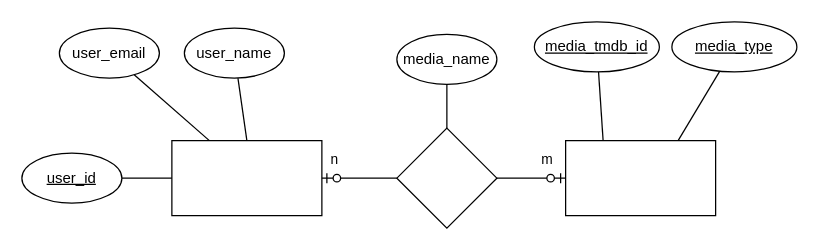
Image size: 819x250. Some labels were removed from this diagram. Each missing label, with the centre of its shape:
"app_user" goes at [246,177].
"media" goes at [640,177].
"wants_ to_watch" goes at [446,177].
